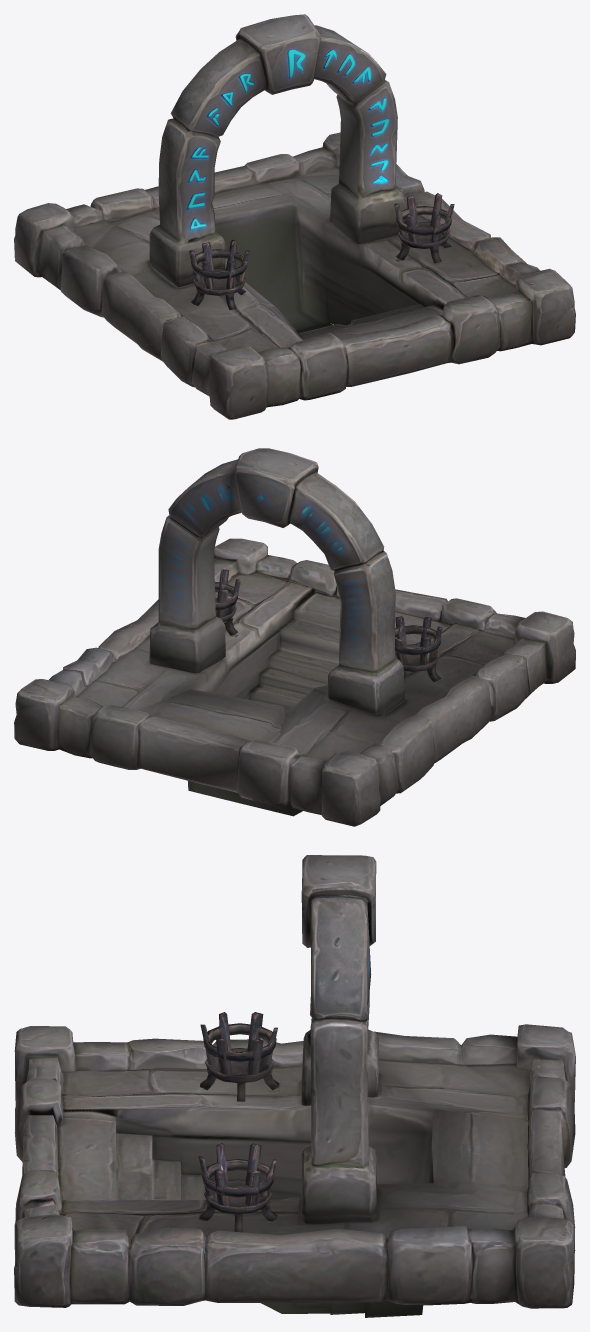
File: uscita_scala.fbx
3 renders of one model, top to bottom at view 1: azimuth 30°, elevation 25°; view 2: azimuth 150°, elevation 25°; view 3: azimuth 270°, elevation 25°, orthographic. The views are drawn at different scales.
Parts seen in each view (by area): view 1: tripo_node_5db5a63a; view 2: tripo_node_5db5a63a; view 3: tripo_node_5db5a63a.
Boxes of the visible parts, box(x1,y1,x2,y2) form: tripo_node_5db5a63a: box(14, 14, 575, 419); tripo_node_5db5a63a: box(14, 448, 575, 826); tripo_node_5db5a63a: box(14, 855, 575, 1317).
Size of the model in its own units: 0.9263 by 0.8169 by 0.9995.
Materials: 1 (1 with a texture image).
